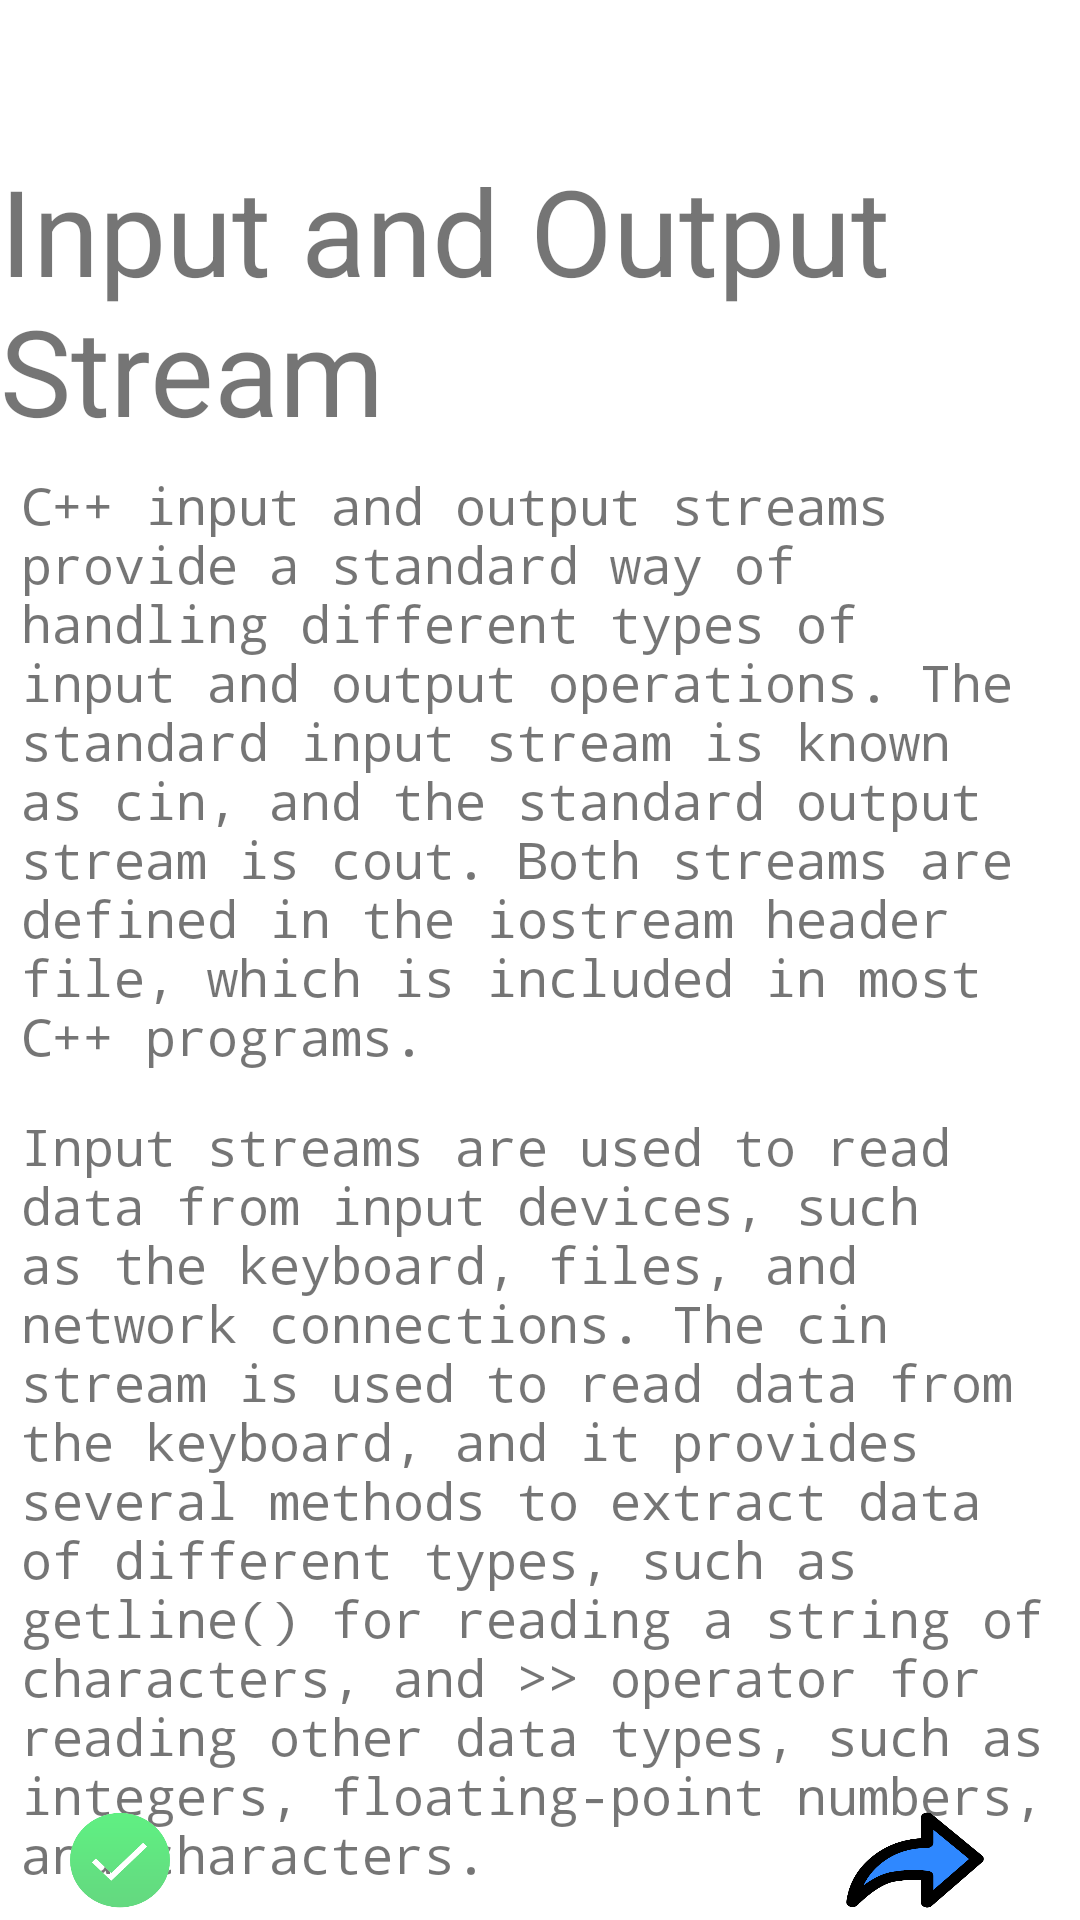

Named icons in this screenshot (1080x1920) and their centers, [x,y]:
next: [915,1854]
